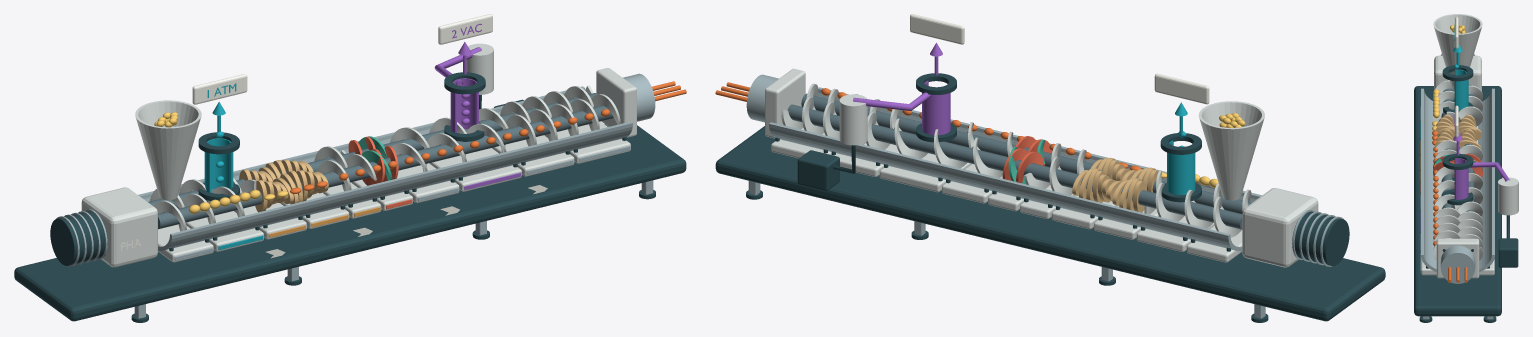
The model's file is vent-guide.glb.
3 renders of one model, left to right at view 1: azimuth 30°, elevation 25°; view 2: azimuth 150°, elevation 25°; view 3: azimuth 270°, elevation 25°, orthographic. The views are drawn at different scales.
Visible parts, largest first — view 1: upstream_reverse_full__Machine bed, upstream_reverse_full__Open feed hopper, upstream_reverse_full__Gearbox, upstream_reverse_full__Shaft, upstream_reverse_full__Drive motor, upstream_reverse_full__Forward flights 3, upstream_reverse_full__Screen housing, upstream_reverse_full__Forward flights 3.001, upstream_reverse_full__Zone jacket.007, upstream_reverse_full__Forward flights 0, upstream_reverse_full__atmospheric_port, upstream_reverse_full__Shaft.001 (+30 smaller); view 2: upstream_reverse_full__Machine bed, upstream_reverse_full__Shaft.001, upstream_reverse_full__Open feed hopper, upstream_reverse_full__Gearbox, upstream_reverse_full__Shaft, upstream_reverse_full__Drive motor, upstream_reverse_full__Screen housing, upstream_reverse_full__Vacuum unit, upstream_reverse_full__Vacuum catch vessel, upstream_reverse_full__Forward flights 3.001, upstream_reverse_full__Forward flights 0.001, upstream_reverse_full__Forward flights 2.001 (+30 smaller); view 3: upstream_reverse_full__Machine bed, upstream_reverse_full__Open feed hopper, upstream_reverse_full__Die head, upstream_reverse_full__Screen housing, upstream_reverse_full__Forward flights 3, upstream_reverse_full__Vacuum catch vessel, upstream_reverse_full__Open barrel.009, upstream_reverse_full__Forward flights 3.001, upstream_reverse_full__Gearbox, upstream_reverse_full__Vacuum unit, upstream_reverse_full__Open barrel.007, upstream_reverse_full__Forward flights 2.001 (+28 smaller).
Part boxes in pixels (x1=…): upstream_reverse_full__Machine bed: x1=14, y1=124, x2=686, y2=321; upstream_reverse_full__Open feed hopper: x1=135, y1=100, x2=201, y2=200; upstream_reverse_full__Gearbox: x1=81, y1=187, x2=157, y2=267; upstream_reverse_full__Shaft: x1=158, y1=105, x2=613, y2=229; upstream_reverse_full__Drive motor: x1=50, y1=211, x2=107, y2=265; upstream_reverse_full__Forward flights 3: x1=506, y1=94, x2=620, y2=146; upstream_reverse_full__Screen housing: x1=596, y1=68, x2=636, y2=137; upstream_reverse_full__Forward flights 3.001: x1=500, y1=85, x2=593, y2=122; upstream_reverse_full__Zone jacket.007: x1=429, y1=148, x2=521, y2=191; upstream_reverse_full__Forward flights 0: x1=153, y1=179, x2=256, y2=231; upstream_reverse_full__atmospheric_port: x1=204, y1=138, x2=233, y2=192; upstream_reverse_full__Shaft.001: x1=148, y1=93, x2=597, y2=212; upstream_reverse_full__Machine bed: x1=715, y1=126, x2=1385, y2=321; upstream_reverse_full__Shaft.001: x1=787, y1=104, x2=1242, y2=229; upstream_reverse_full__Open feed hopper: x1=1198, y1=101, x2=1264, y2=200; upstream_reverse_full__Gearbox: x1=1242, y1=188, x2=1318, y2=267; upstream_reverse_full__Shaft: x1=801, y1=93, x2=1252, y2=213; upstream_reverse_full__Drive motor: x1=1292, y1=211, x2=1349, y2=266; upstream_reverse_full__Screen housing: x1=765, y1=68, x2=805, y2=138; upstream_reverse_full__Vacuum unit: x1=797, y1=150, x2=839, y2=190; upstream_reverse_full__Vacuum catch vessel: x1=839, y1=94, x2=867, y2=145; upstream_reverse_full__Forward flights 3.001: x1=781, y1=97, x2=889, y2=149; upstream_reverse_full__Forward flights 0.001: x1=1144, y1=182, x2=1241, y2=237; upstream_reverse_full__Forward flights 2.001: x1=894, y1=118, x2=1002, y2=177; upstream_reverse_full__Machine bed: x1=1414, y1=86, x2=1501, y2=316; upstream_reverse_full__Open feed hopper: x1=1433, y1=14, x2=1482, y2=87; upstream_reverse_full__Die head: x1=1440, y1=245, x2=1475, y2=283; upstream_reverse_full__Screen housing: x1=1436, y1=238, x2=1479, y2=278; upstream_reverse_full__Forward flights 3: x1=1433, y1=207, x2=1460, y2=260; upstream_reverse_full__Vacuum catch vessel: x1=1498, y1=177, x2=1518, y2=215; upstream_reverse_full__Open barrel.009: x1=1421, y1=234, x2=1494, y2=272; upstream_reverse_full__Forward flights 3.001: x1=1457, y1=211, x2=1482, y2=260; upstream_reverse_full__Gearbox: x1=1434, y1=55, x2=1481, y2=101; upstream_reverse_full__Vacuum unit: x1=1498, y1=238, x2=1518, y2=267; upstream_reverse_full__Open barrel.007: x1=1421, y1=193, x2=1494, y2=227; upstream_reverse_full__Forward flights 2.001: x1=1454, y1=173, x2=1482, y2=216.
Size of the model in its own units: 14.59 by 4.36 by 2.8.
